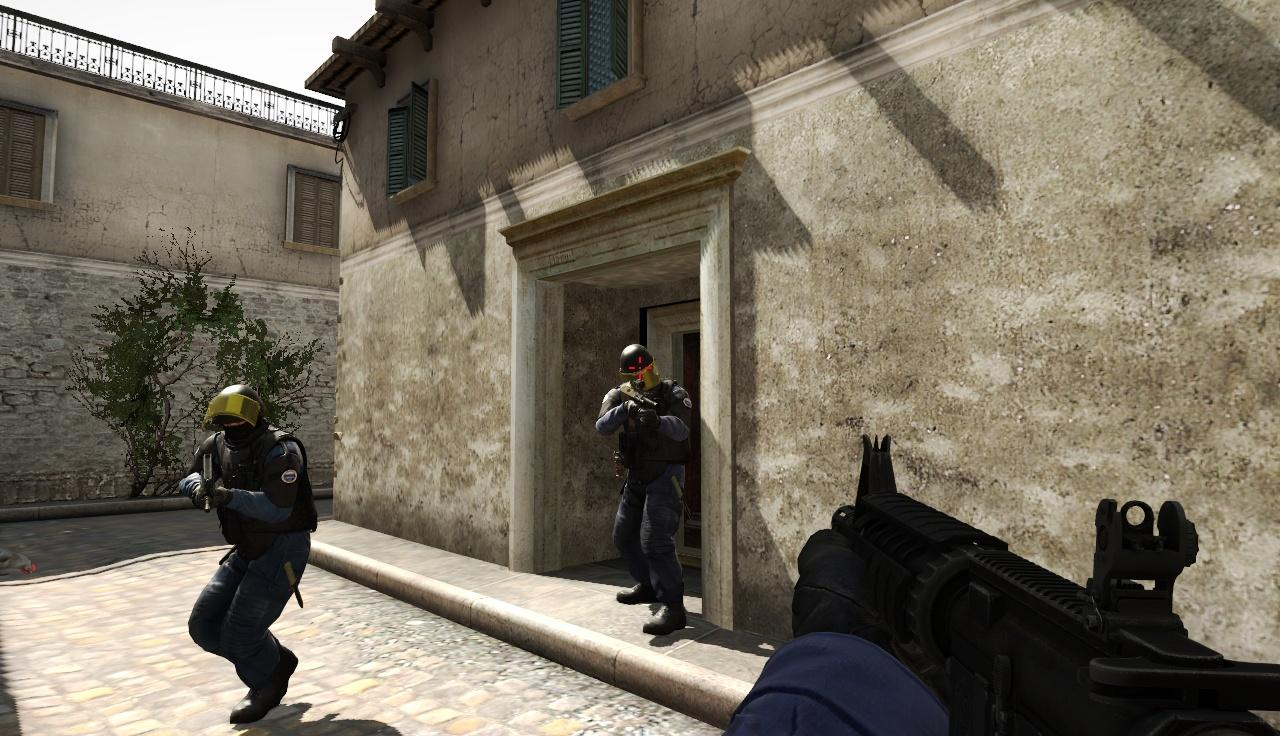ct: (188, 386, 311, 686), (597, 339, 691, 630)
cthead: (203, 387, 270, 441), (618, 343, 662, 392)
rifle: (812, 433, 1280, 736)
